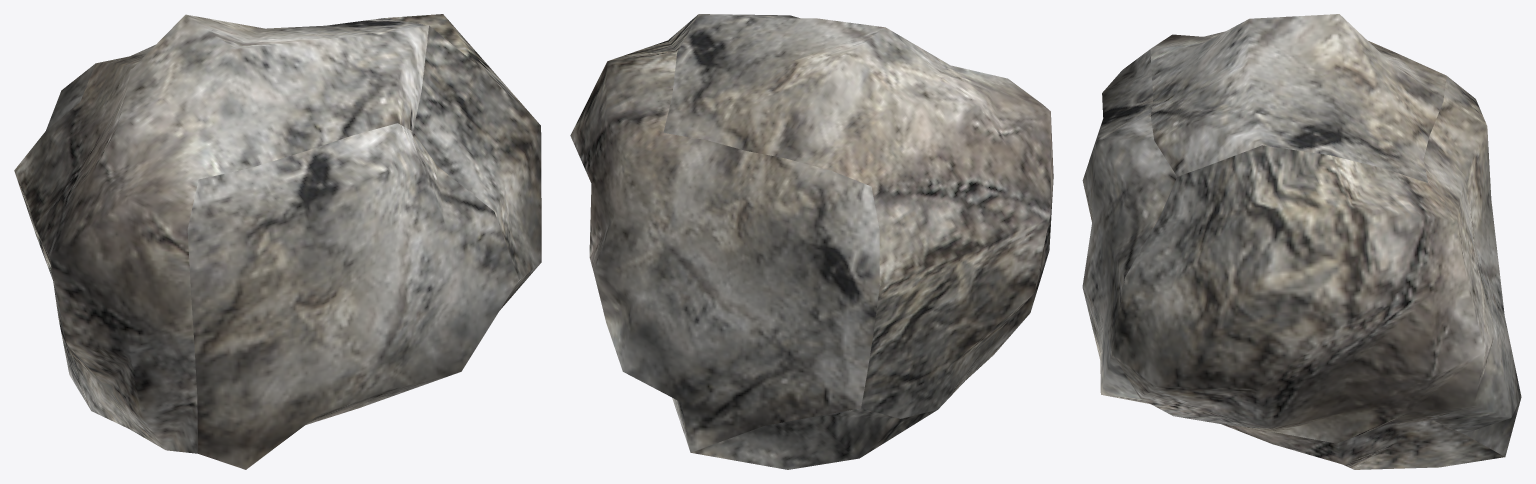
The model's file is rockD.FBX.
3 renders of one model, left to right at view 1: azimuth 30°, elevation 25°; view 2: azimuth 150°, elevation 25°; view 3: azimuth 270°, elevation 25°, orthographic. The views are drawn at different scales.
Visible parts, largest first — view 1: rockLP005; view 2: rockLP005; view 3: rockLP005.
Part boxes in pixels (x1=…): rockLP005: x1=14, y1=14, x2=541, y2=469; rockLP005: x1=570, y1=14, x2=1053, y2=469; rockLP005: x1=1082, y1=14, x2=1521, y2=469.
Size of the model in its own units: 293 by 244 by 231.
Materials: 1 (1 with a texture image).
